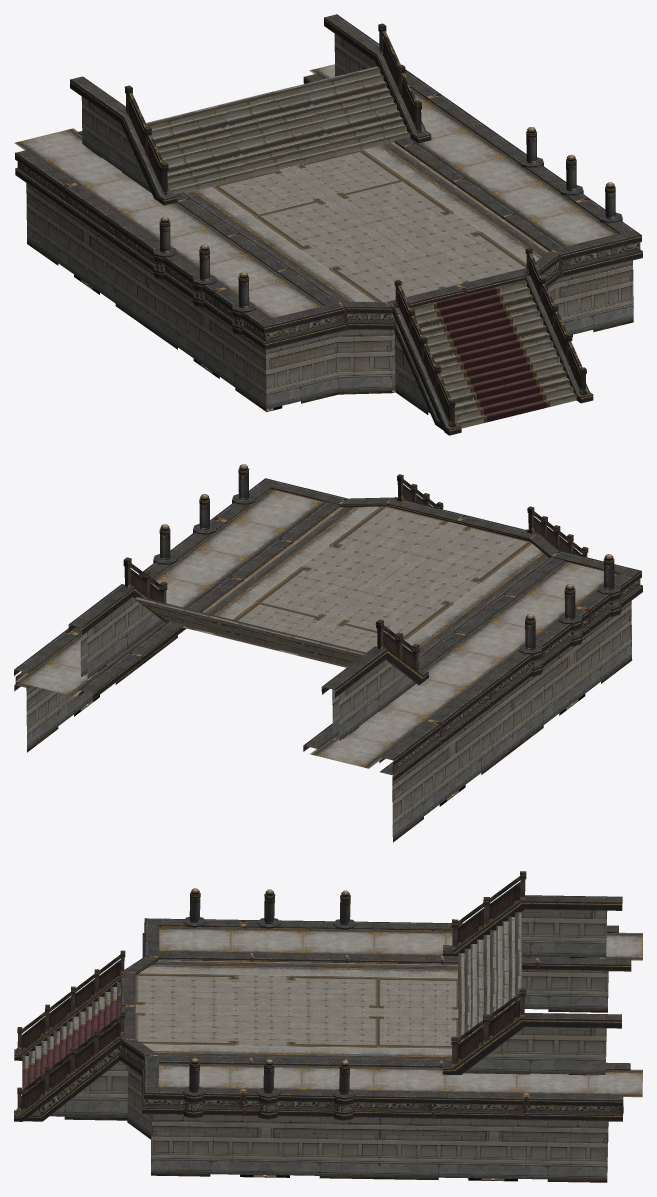
File: jd_taijie_1.FBX
The picture shows the model from 3 angles, top to bottom: view 1: azimuth 30°, elevation 25°; view 2: azimuth 150°, elevation 25°; view 3: azimuth 270°, elevation 25°; orthographic projection. The views are drawn at different scales.
Parts seen in each view (by area): view 1: jd_taijie_1; view 2: jd_taijie_1; view 3: jd_taijie_1.
Boxes of the visible parts, left/top/right/bottom form: jd_taijie_1: left=14, top=14, right=642, bottom=435; jd_taijie_1: left=14, top=464, right=642, bottom=842; jd_taijie_1: left=14, top=871, right=642, bottom=1182.
Bounding box in the file's own units: 95.37 × 41.3 × 141.
